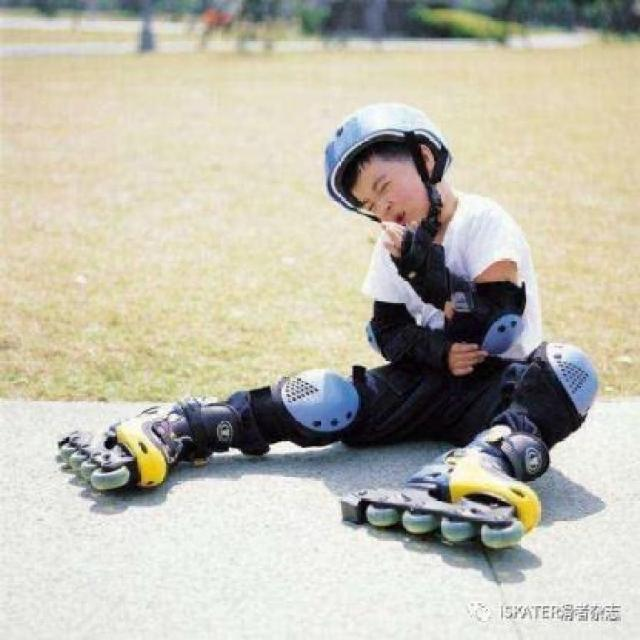fall: (59, 83, 586, 543)
